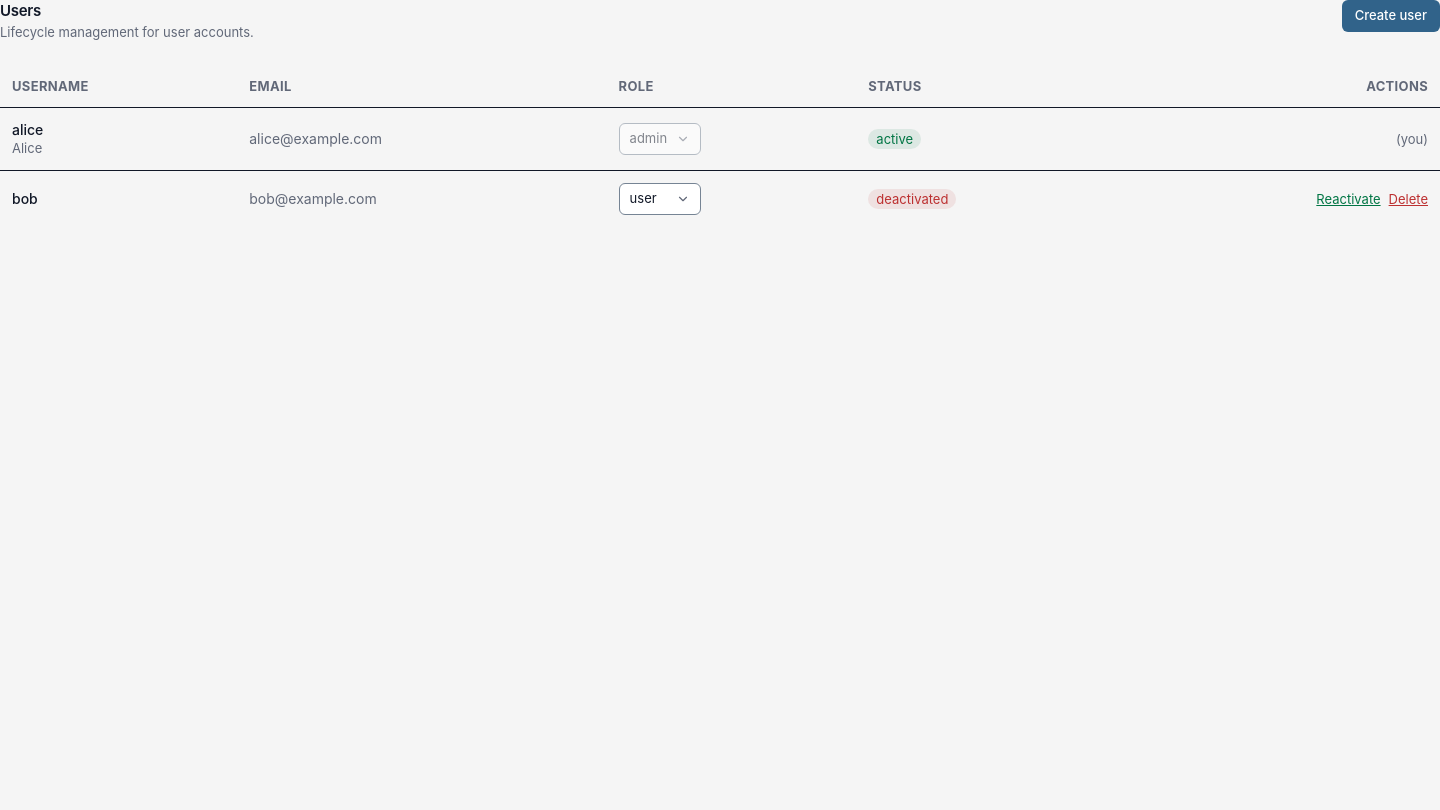
UsersAdminPage › opens the create dialog when Create user is clicked
Expected: the text "alice" is shown, [12,121,43,138]
What coordinates should you click on to do the following:
click the button "Create user"
I would click on:
 (1391, 16)
Its box is [1342,0,1439,32].
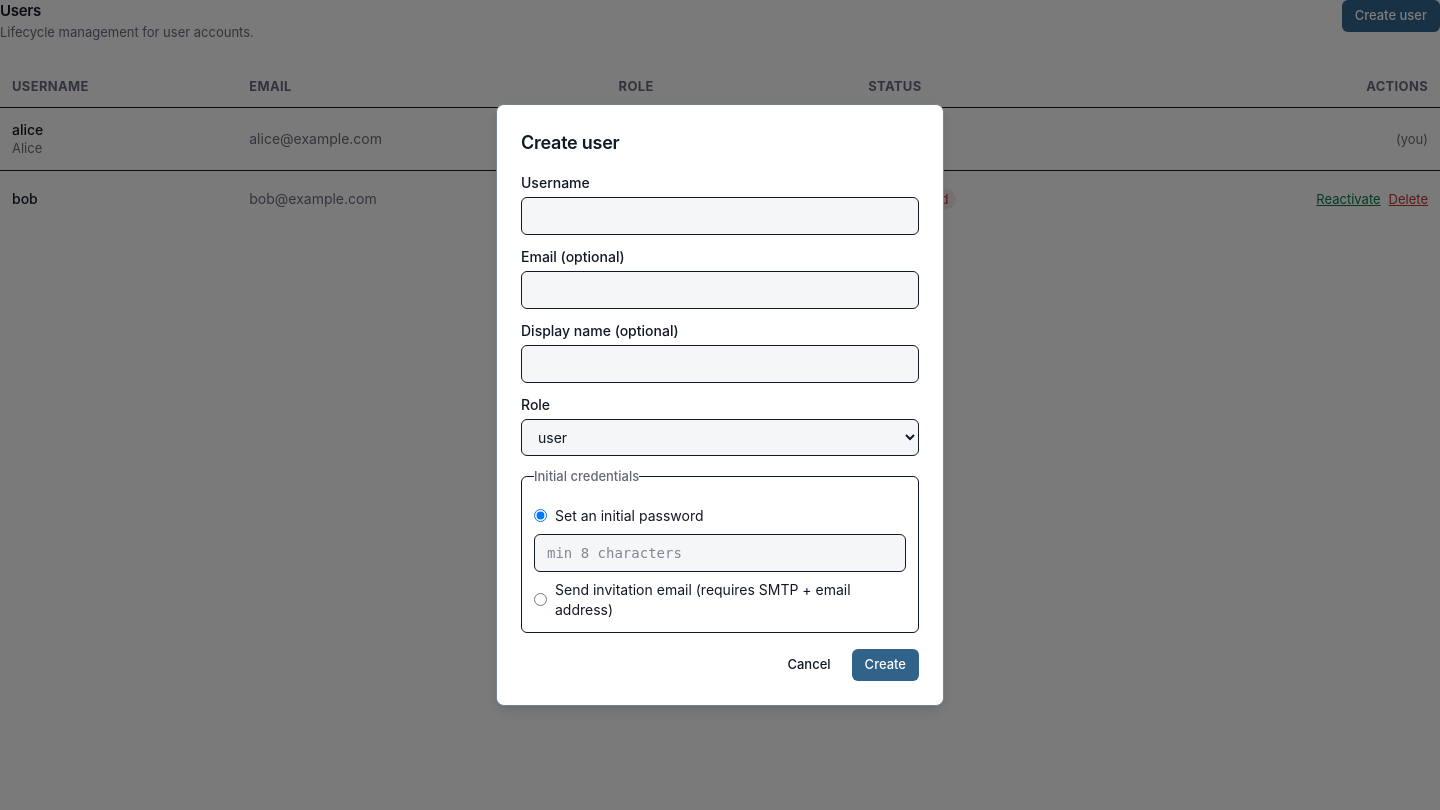
Expected: the heading "Create user" is shown, [521,132,620,153]
Expected: the button "Cancel" is shown, [774,649,844,681]
Expected: the button "Create" is shown, [852,649,919,681]
